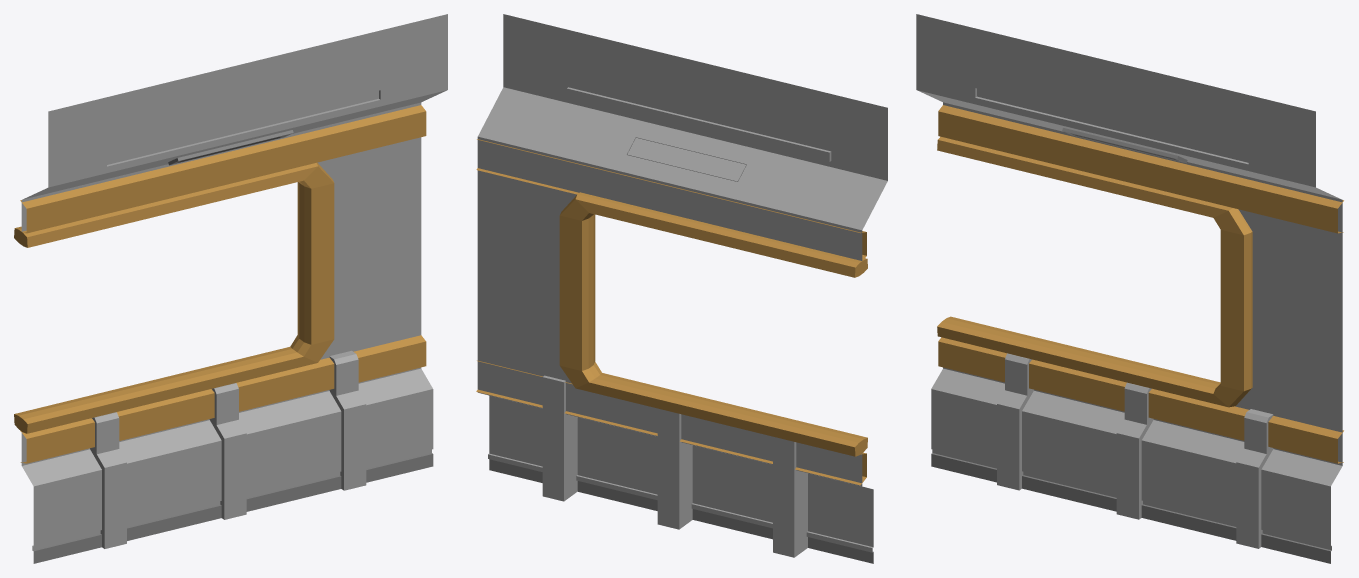
The model's file is RightGlassWall.fbx.
The picture shows the model from 3 angles, left to right: view 1: azimuth 30°, elevation 25°; view 2: azimuth 150°, elevation 25°; view 3: azimuth 330°, elevation 25°; orthographic projection. The views are drawn at different scales.
Parts seen in each view (by area): view 1: Wall_Empty, Cube.001; view 2: Wall_Empty, Cube.001; view 3: Wall_Empty, Cube.001.
Part boxes in pixels (x1=…): Wall_Empty: x1=20, y1=14, x2=447, y2=563; Cube.001: x1=14, y1=162, x2=334, y2=433; Wall_Empty: x1=476, y1=14, x2=887, y2=563; Cube.001: x1=559, y1=192, x2=867, y2=456; Wall_Empty: x1=916, y1=14, x2=1343, y2=563; Cube.001: x1=937, y1=136, x2=1252, y2=407.
Size of the model in its own units: 400 by 443 by 59.51.
